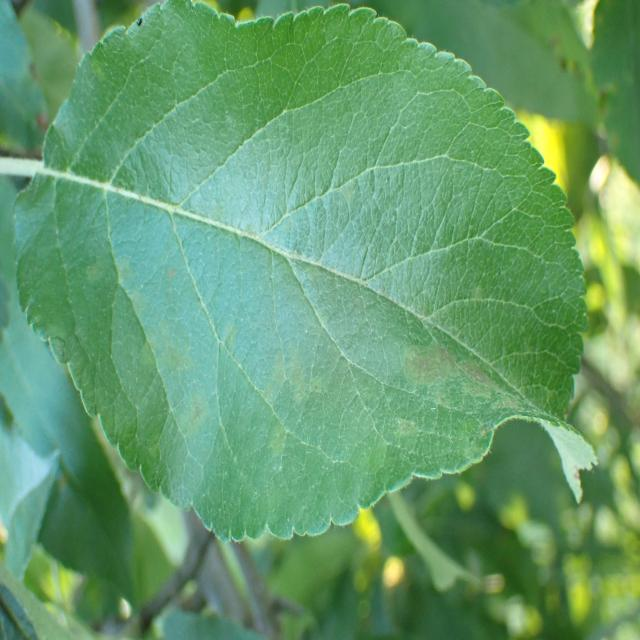scab: (56, 108, 576, 498)
